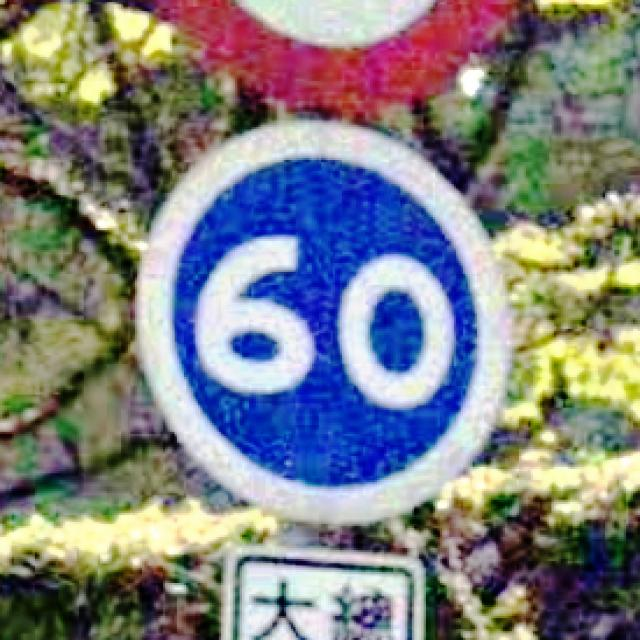min60: (130, 114, 517, 524)
